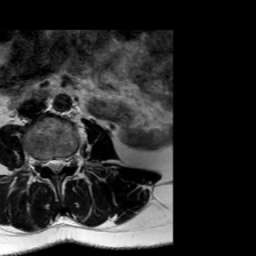CCS_normal: (53, 145, 59, 181)
LFS_normal: (66, 145, 74, 172)
LLS_normal: (59, 147, 66, 176)
RFS_normal: (37, 147, 45, 174)
RLS_normal: (45, 149, 53, 176)
